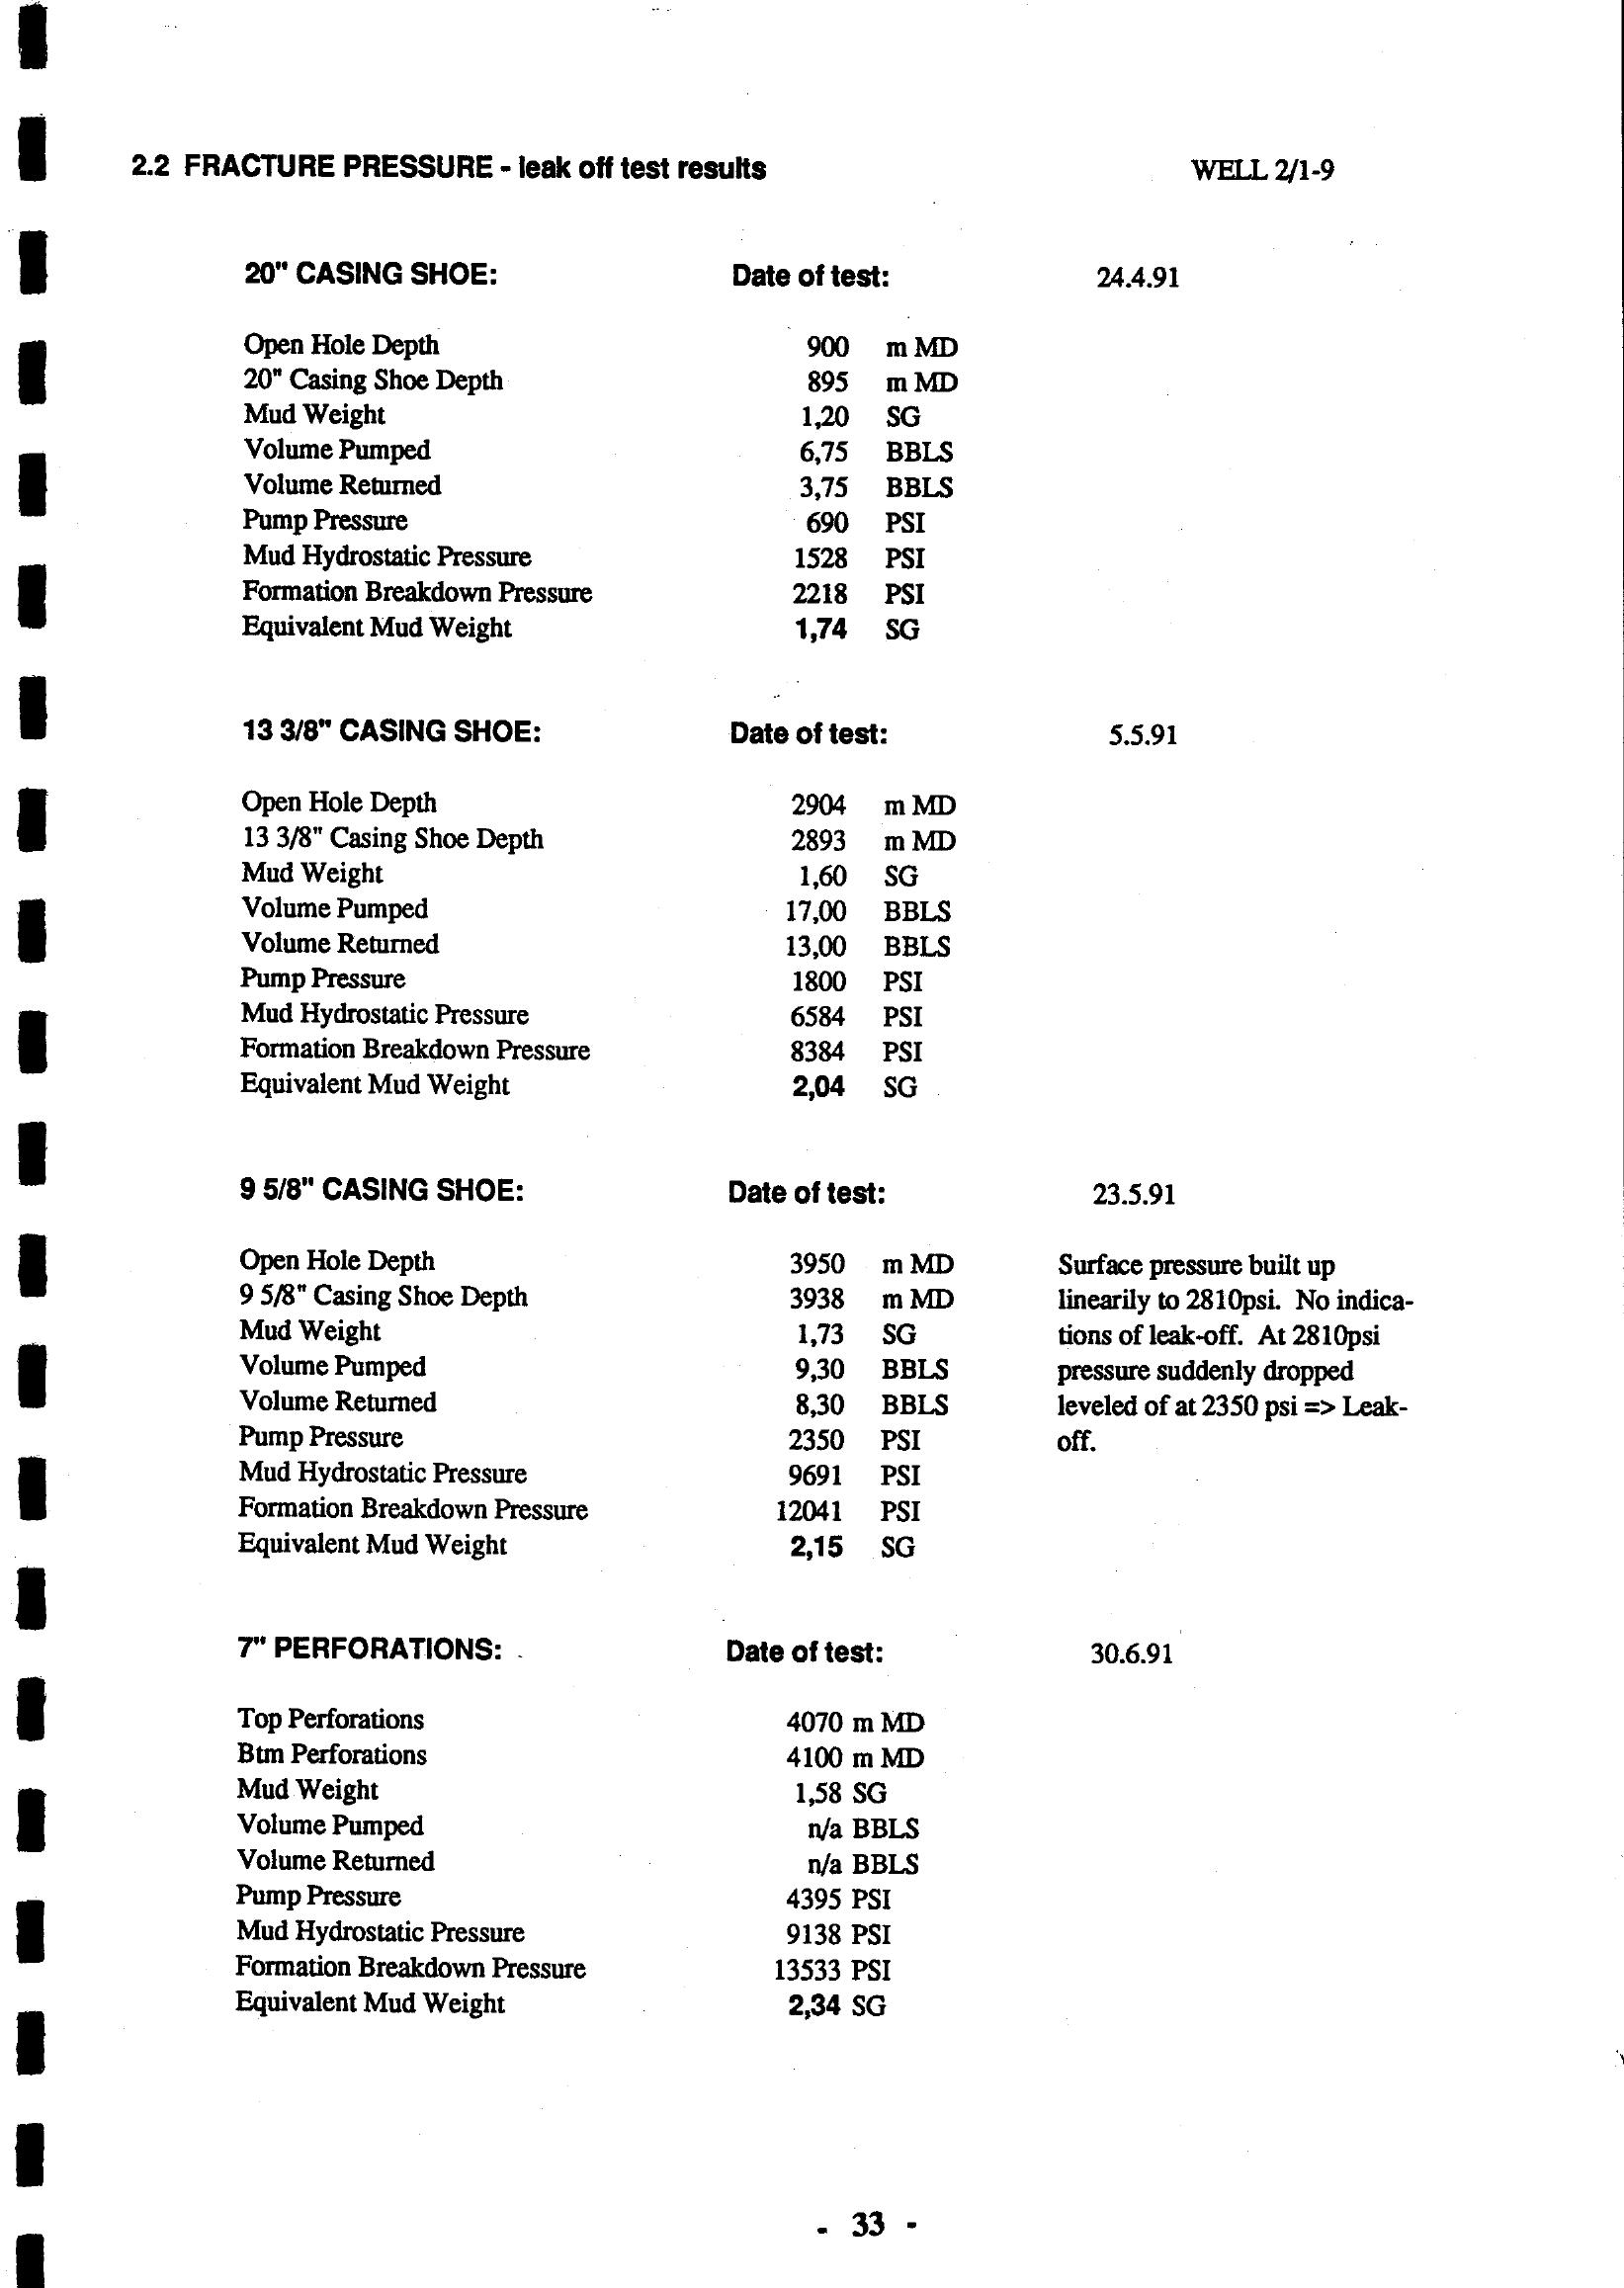text: (112, 130, 1494, 2070)
